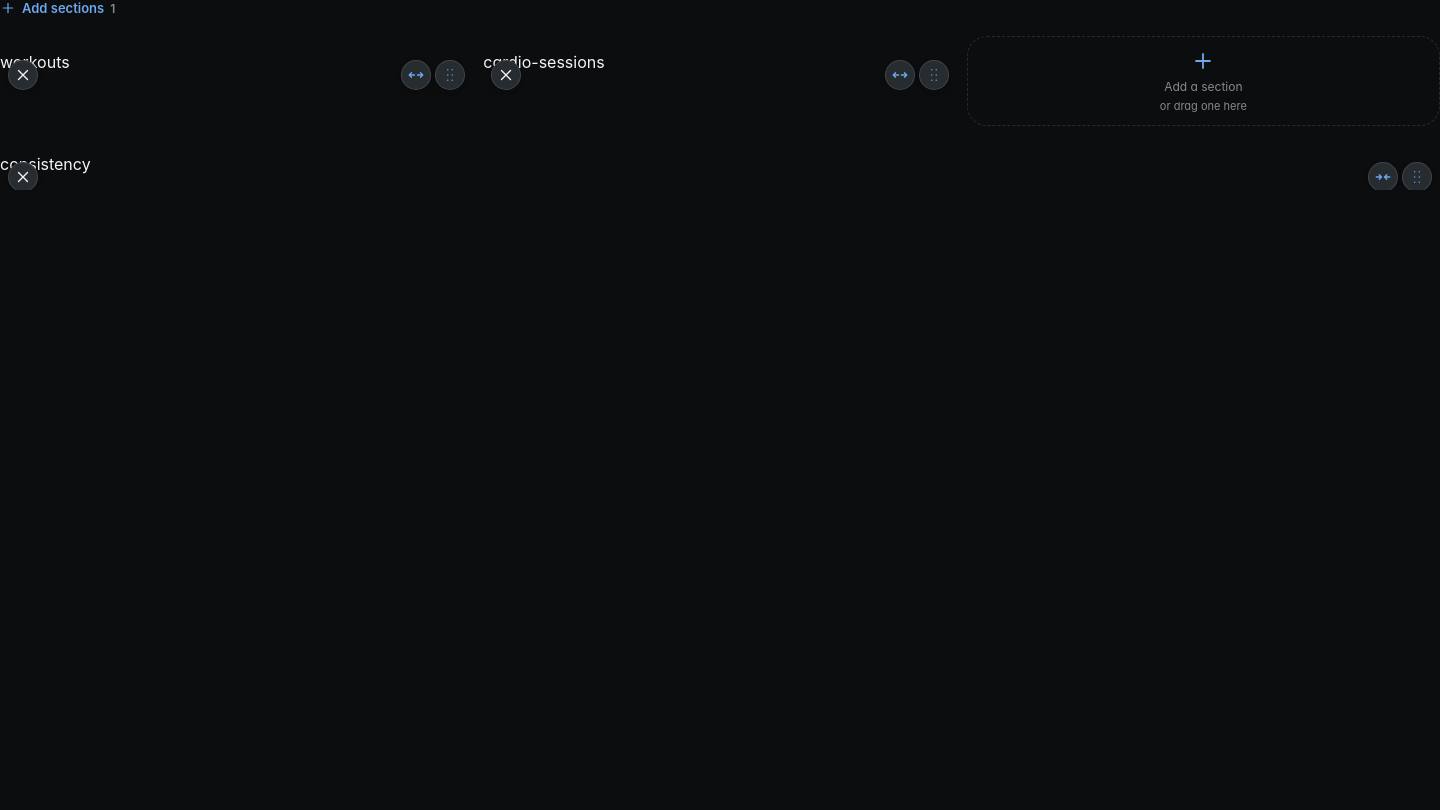
Scenario: Home empty-space dragging › adds a hidden section directly into the tapped space without duplicating it
What coordinates should you click on to do the following:
click the button "Add a section or drag one here"
I would click on:
 (1203, 81)
Its box is top-left (967, 36), bottom-right (1439, 126).
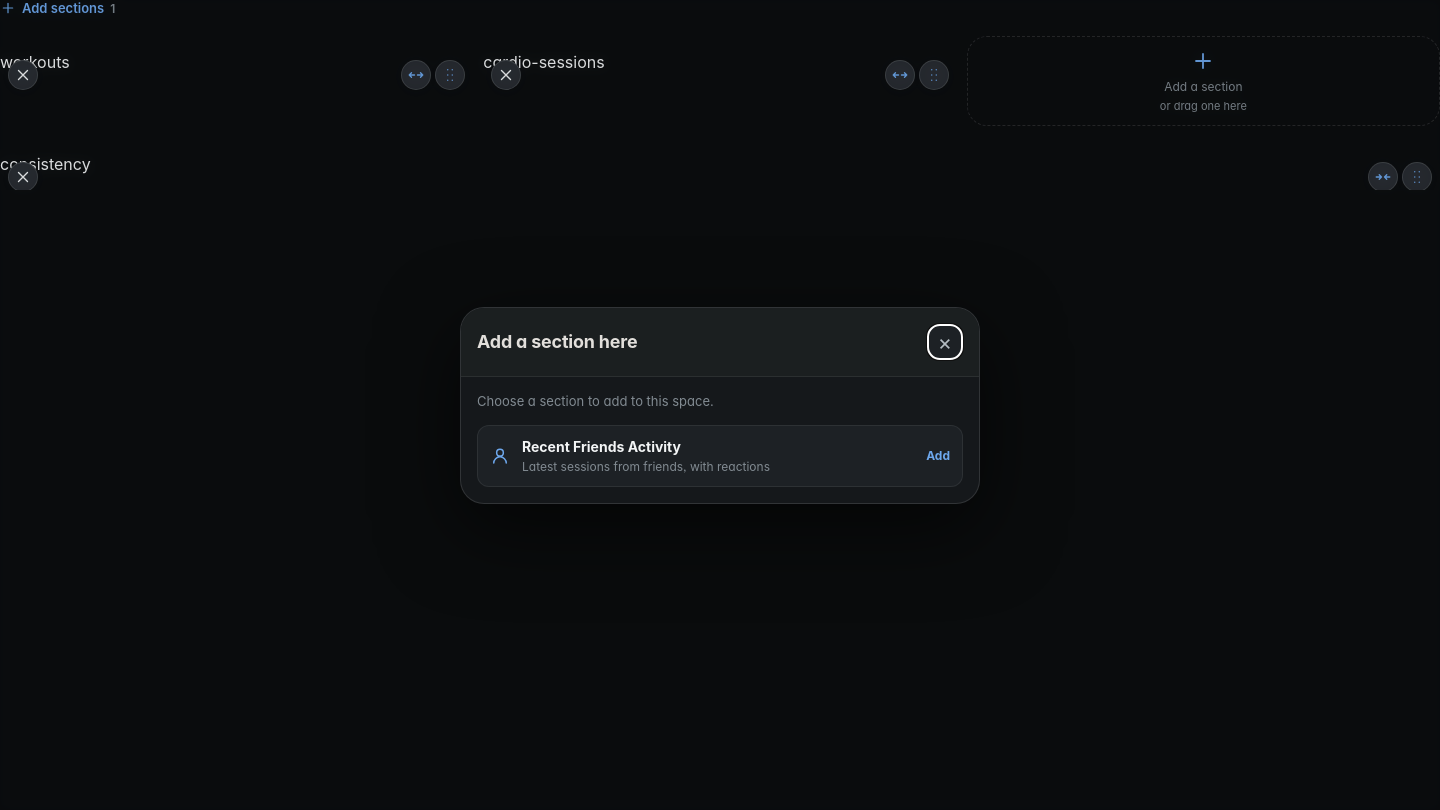
Expected: the element with class "home-section-picker" does not show "Move"
Result: the dialog with class "home-section-picker" is shown at top-left (460, 306), bottom-right (980, 504)
Result: the number of buttons with class "home-section-choice" is 1
What coordinates should you click on to do the following:
click the button with class "home-section-choice"
I would click on:
 (720, 456)
Its box is top-left (477, 424), bottom-right (963, 486).
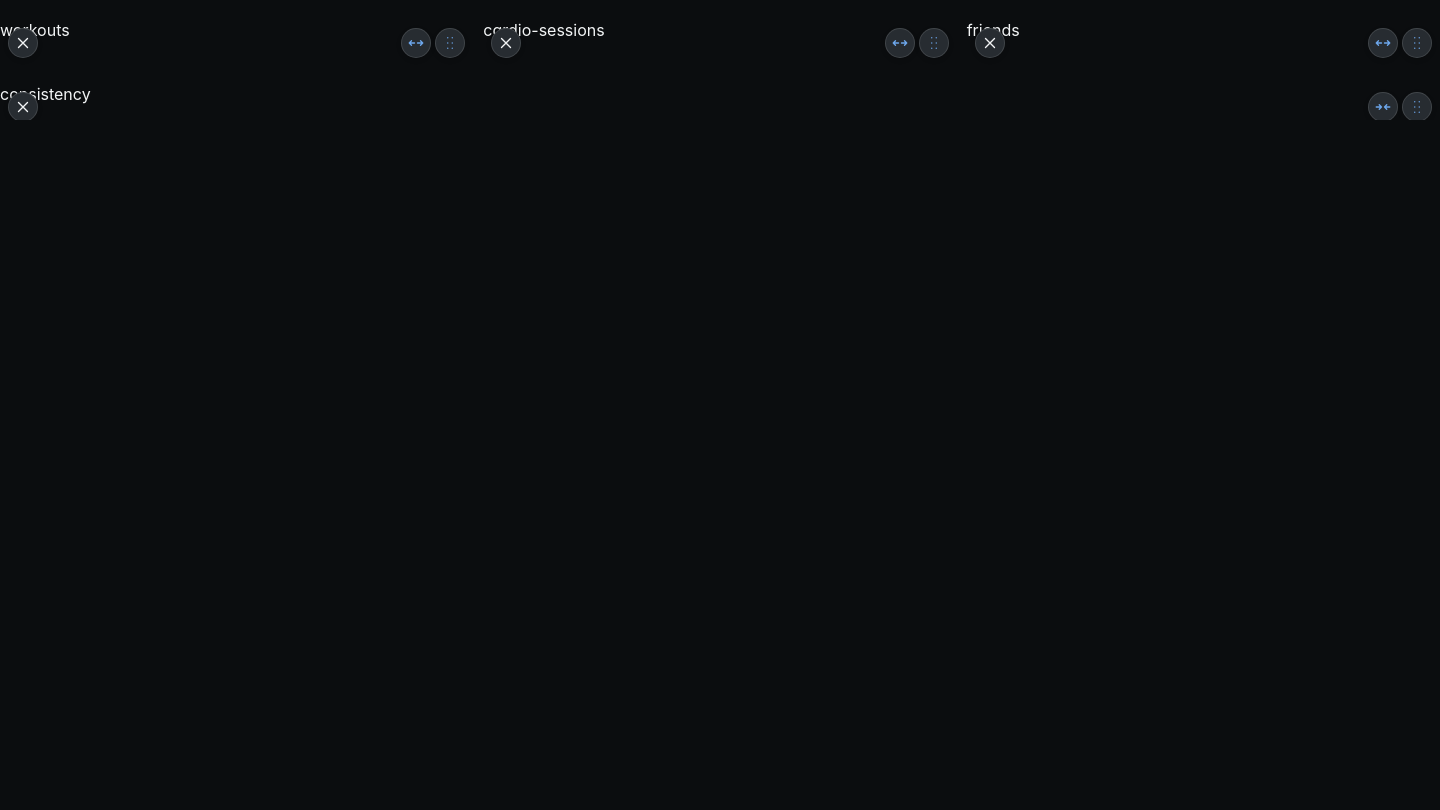
Result: the dialog with class "home-section-picker" is gone
